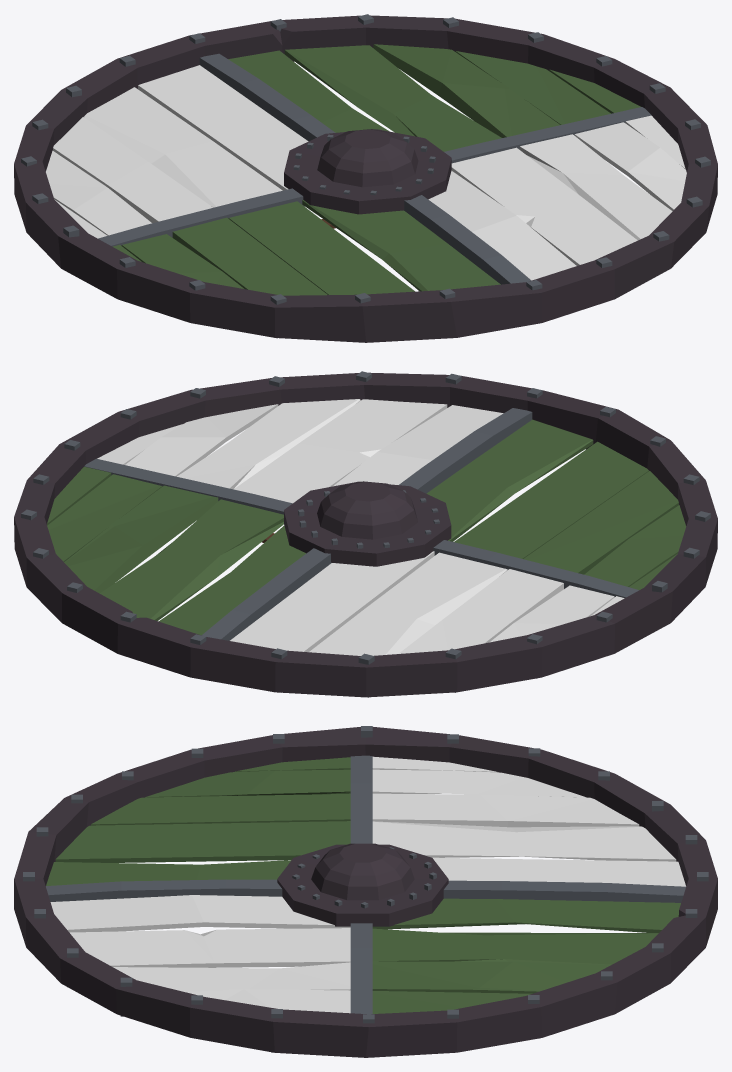
Rendered from Shield_3.fbx.
The picture shows the model from 3 angles, top to bottom: view 1: azimuth 30°, elevation 25°; view 2: azimuth 150°, elevation 25°; view 3: azimuth 270°, elevation 25°; orthographic projection.
Parts seen in each view (by area): view 1: Shield_3; view 2: Shield_3; view 3: Shield_3.
Part boxes in pixels (<box>): Shield_3: <box>14,14,717,342</box>; Shield_3: <box>14,371,717,697</box>; Shield_3: <box>14,726,717,1057</box>.
Size of the model in its own units: 0.9238 by 0.1121 by 0.9184.
